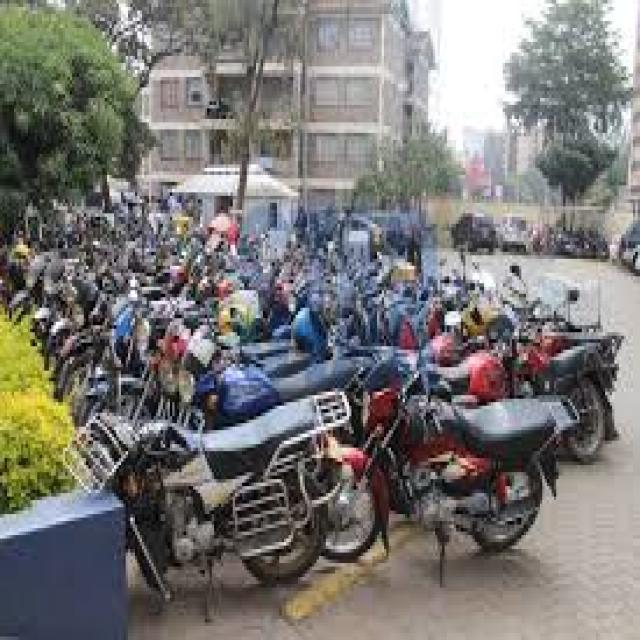bodaboda: (53, 351, 343, 623), (328, 346, 586, 576)
